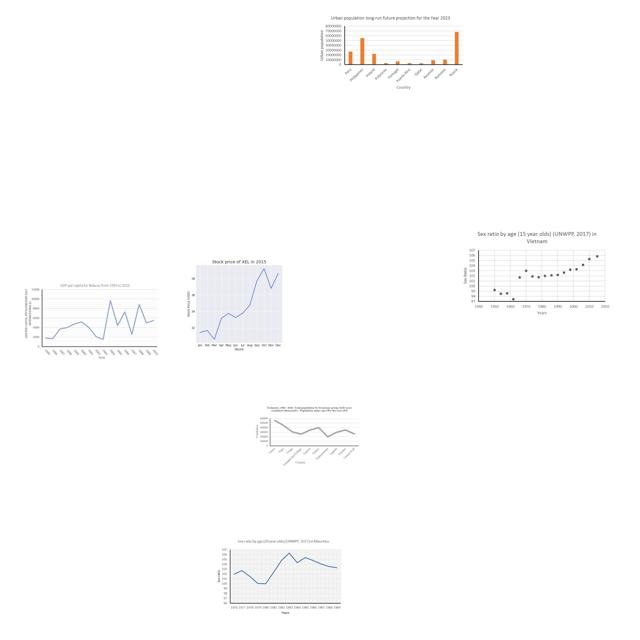Graph: (170, 253, 305, 354), (459, 229, 612, 317), (316, 13, 465, 92), (23, 281, 159, 361), (214, 538, 344, 617), (253, 405, 362, 467)
